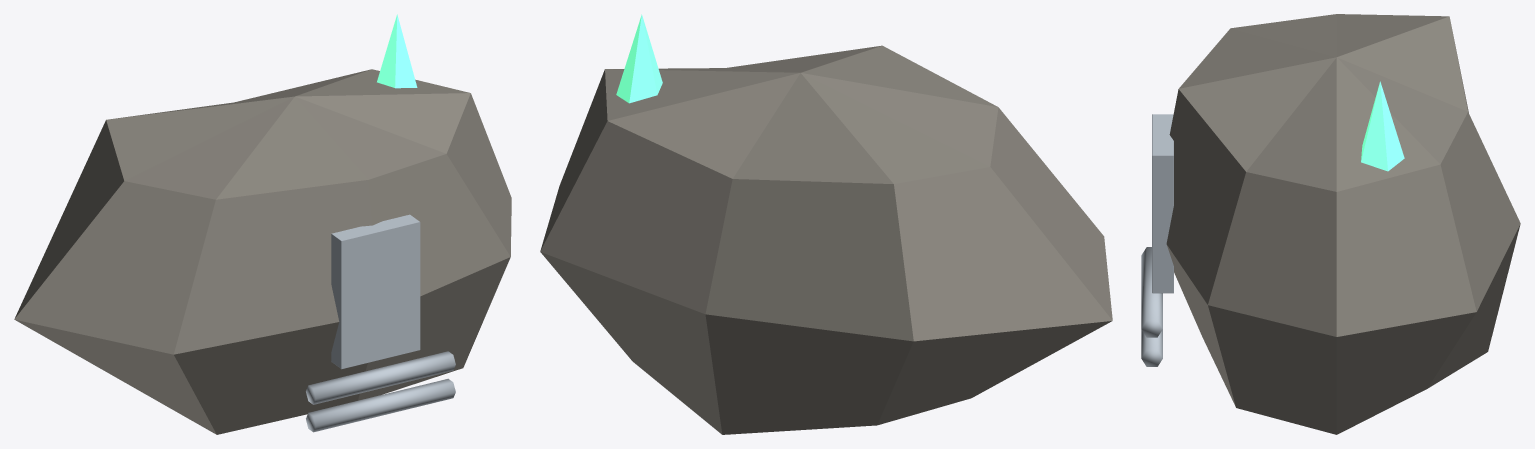
Rendered from wachtstein.glb.
3 renders of one model, left to right at view 1: azimuth 30°, elevation 25°; view 2: azimuth 150°, elevation 25°; view 3: azimuth 270°, elevation 25°, orthographic. The views are drawn at different scales.
Visible parts, largest first — view 1: Sphere; view 2: Sphere; view 3: Sphere.
Part boxes in pixels (x1,y1,x2,y2): Sphere: [14, 14, 511, 434]; Sphere: [540, 14, 1112, 434]; Sphere: [1141, 14, 1520, 434].
Bounding box in the file's own units: 0.2842 × 0.1833 × 0.1747.
